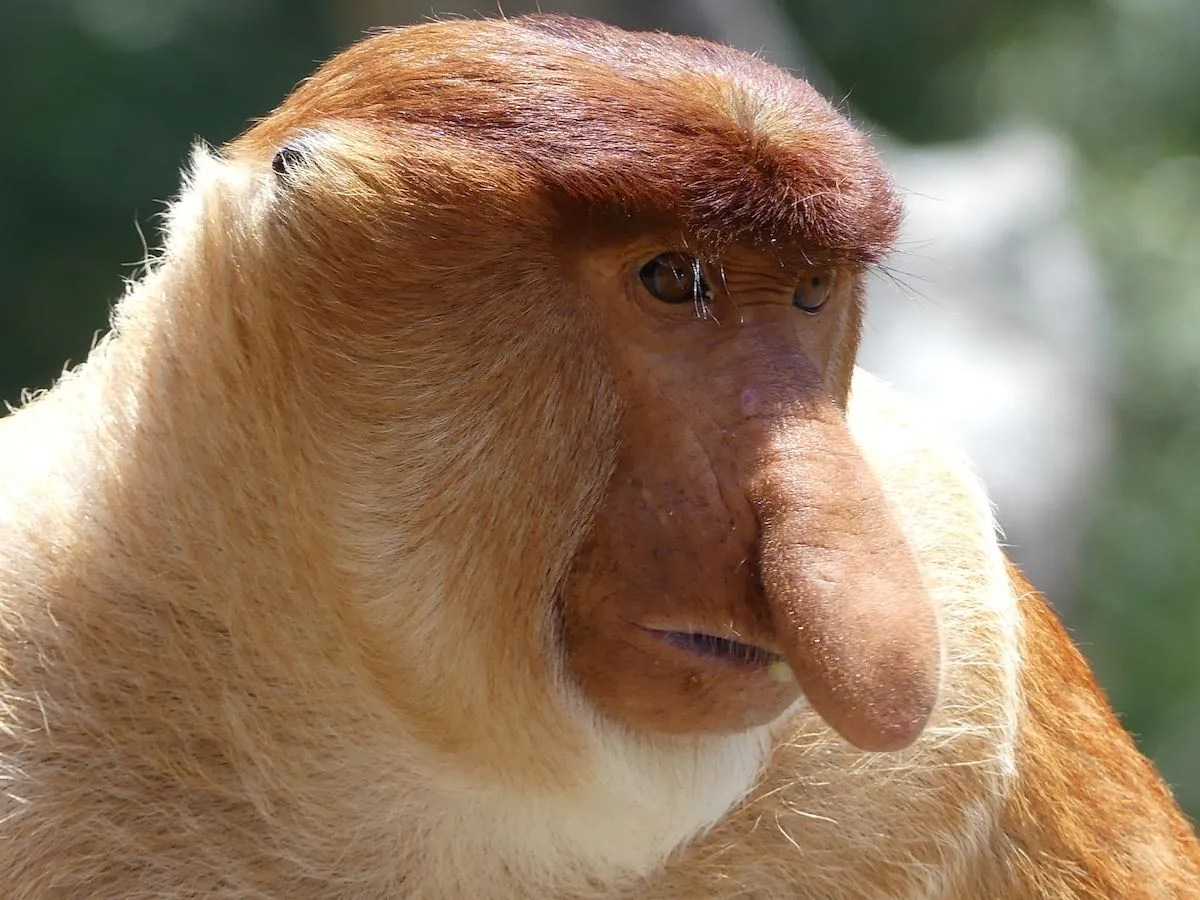monkey_face: (191, 37, 1039, 810)
